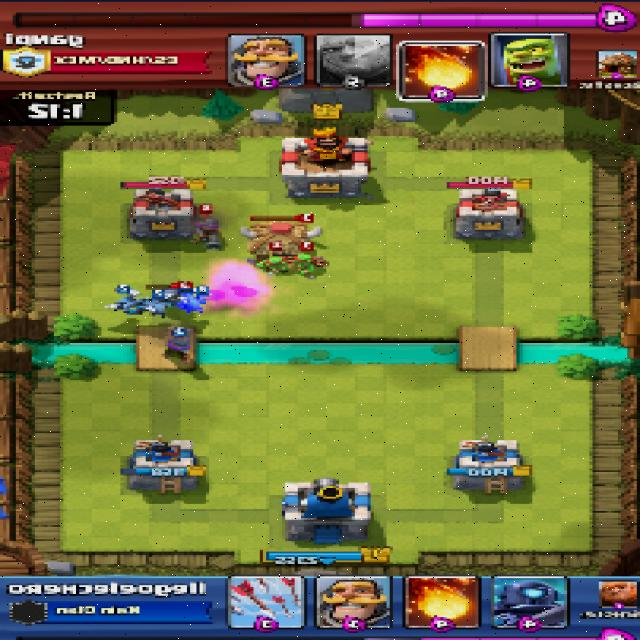Enemy-GoblinHut: (241, 224, 329, 270)
Enemy-MiniPEKKA: (151, 285, 196, 302)
Enemy-Musketeer: (189, 216, 226, 249)
Enemy-SpearGoblin: (291, 253, 325, 278), (253, 254, 291, 276)
Player-Minion: (108, 293, 144, 314), (178, 294, 208, 312), (143, 299, 171, 318)
Player-Musketeer: (162, 324, 200, 358)
